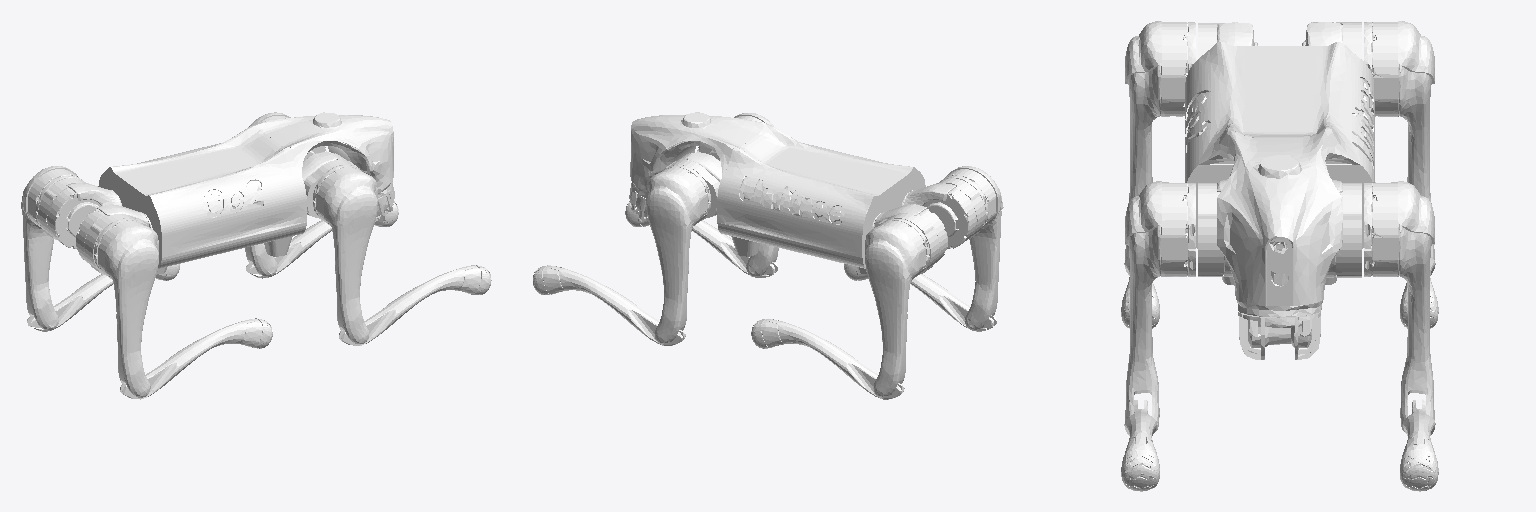
--- Facts derived from the render (not from the file) ---
The picture shows the robot from 3 angles, left to right: view 1: azimuth 30°, elevation 25°; view 2: azimuth 150°, elevation 25°; view 3: azimuth 270°, elevation 25°; orthographic projection.
Robot: go2_description — 29 links, 28 joints (12 revolute, 16 fixed); root link base; default pose: all joints at 0 but 4 set to mid-range because 0 is outside their limits (FL_calf_joint = -1.78, FR_calf_joint = -1.78, RL_calf_joint = -1.78, RR_calf_joint = -1.78).
Visible links, largest first — view 1: base, RR_thigh, FR_thigh, RL_thigh, RL_hip, FR_calf, RR_calf, RR_hip, RL_calf, FL_calf, FR_hip, FL_thigh; view 2: base, RL_thigh, FL_thigh, RR_thigh, RR_hip, RL_calf, FL_calf, RL_hip, RR_calf, FR_calf, FL_hip, FR_thigh; view 3: base, FL_thigh, FR_thigh, RL_thigh, RR_thigh, FL_hip, FR_hip, FL_calf, FR_calf, RL_hip, RR_hip, FR_foot (+1 smaller).
Boxes of the visible links, x1,y1,x2,y2 form: base: [98, 112, 394, 273]; RR_thigh: [94, 218, 158, 397]; FR_thigh: [313, 165, 377, 343]; RL_thigh: [21, 166, 82, 330]; RL_hip: [38, 178, 121, 248]; FR_calf: [339, 265, 490, 345]; RR_calf: [120, 319, 272, 399]; RR_hip: [76, 204, 152, 274]; RL_calf: [27, 266, 175, 331]; FL_calf: [246, 205, 398, 278]; FR_hip: [302, 151, 359, 218]; FL_thigh: [245, 112, 290, 277]; base: [629, 112, 925, 273]; RL_thigh: [865, 219, 929, 397]; FL_thigh: [646, 165, 710, 343]; RR_thigh: [940, 166, 1003, 330]; RR_hip: [902, 178, 985, 248]; RL_calf: [751, 319, 904, 399]; FL_calf: [533, 266, 685, 345]; RL_hip: [871, 204, 947, 274]; RR_calf: [844, 264, 996, 331]; FR_calf: [625, 201, 777, 277]; FL_hip: [664, 152, 721, 220]; FR_thigh: [734, 113, 778, 277]; base: [1185, 42, 1374, 359]; FL_thigh: [1364, 181, 1434, 431]; FR_thigh: [1125, 181, 1195, 431]; RL_thigh: [1364, 21, 1434, 259]; RR_thigh: [1125, 21, 1195, 259]; FL_hip: [1326, 179, 1361, 277]; FR_hip: [1198, 179, 1232, 276]; FL_calf: [1402, 399, 1438, 489]; FR_calf: [1121, 400, 1156, 488]; RL_hip: [1302, 22, 1361, 58]; RR_hip: [1198, 22, 1257, 58]; FR_foot: [1122, 450, 1159, 491].
Bounding box of the posed robot: 0.6664 × 0.324 × 0.3208 m (x, y, z).
17 mesh visuals loaded from 7 distinct referenced files (7 Collada DAE).

The robot description file, URDF, robot "go2_description":
<?xml version="1.0" encoding="utf-8"?>
<!-- This URDF was automatically created by SolidWorks to URDF Exporter! Originally created by
Stephen Brawner ([email redacted]) 
     Commit Version: 1.6.0-4-g7f85cfe  Build Version: 1.6.7995.38578
     For more information, please see http://wiki.ros.org/sw_urdf_exporter -->
<robot
  name="go2_description">
  <link
    name="base">
    <inertial>
      <origin
        xyz="0.021112 0 -0.005366"
        rpy="0 0 0" />
      <mass
        value="6.921" />
      <inertia
        ixx="0.02448"
        ixy="0.00012166"
        ixz="0.0014849"
        iyy="0.098077"
        iyz="-3.12E-05"
        izz="0.107" />
    </inertial>
    <visual>
      <origin
        xyz="0 0 0"
        rpy="0 0 0" />
      <geometry>
        <mesh
          filename="../dae/base.dae" />
      </geometry>
      <material
        name="">
        <color
          rgba="1 1 1 1" />
      </material>
    </visual>
    <collision>
      <origin rpy="0 0 0" xyz="0 0 0" />
      <geometry>
        <box size="0.3762 0.0935 0.114" />
      </geometry>
    </collision>
  </link>
  <link
    name="Head_upper">
    <inertial>
      <origin
        xyz="0 0 0"
        rpy="0 0 0" />
      <mass
        value="0.001" />
      <inertia
        ixx="9.6e-06"
        ixy="0"
        ixz="0"
        iyy="9.6e-06"
        iyz="0"
        izz="9.6e-06" />
    </inertial>
    <collision>
      <origin
        xyz="0 0 0"
        rpy="0 0 0" />
      <geometry>
        <cylinder radius="0.05" length="0.09" />
      </geometry>
    </collision>
  </link>
  <joint
    name="Head_upper_joint"
    type="fixed">
    <origin
      xyz="0.285 0 0.01"
      rpy="0 0 0" />
    <parent
      link="base" />
    <child
      link="Head_upper" />
    <axis
      xyz="0 0 0" />
  </joint>
  <link
    name="Head_lower">
    <inertial>
      <origin
        xyz="0 0 0"
        rpy="0 0 0" />
      <mass
        value="0.001" />
      <inertia
        ixx="9.6e-06"
        ixy="0"
        ixz="0"
        iyy="9.6e-06"
        iyz="0"
        izz="9.6e-06" />
    </inertial>
    <collision>
      <origin
        xyz="0 0 0"
        rpy="0 0 0" />
      <geometry>
        <sphere radius="0.047" />
      </geometry>
    </collision>
  </link>
  <joint
    name="Head_lower_joint"
    type="fixed" dont_collapse="true">
    <origin
      xyz="0.008 0 -0.07"
      rpy="0 0 0" />
    <parent
      link="Head_upper" />
    <child
      link="Head_lower" />
    <axis
      xyz="0 0 0" />
  </joint>
  <link
    name="FL_hip">
    <inertial>
      <origin
        xyz="-0.0054 0.00194 -0.000105"
        rpy="0 0 0" />
      <mass
        value="0.678" />
      <inertia
        ixx="0.00048"
        ixy="-3.01E-06"
        ixz="1.11E-06"
        iyy="0.000884"
        iyz="-1.42E-06"
        izz="0.000596" />
    </inertial>
    <visual>
      <origin
        xyz="0 0 0"
        rpy="0 0 0" />
      <geometry>
        <mesh
          filename="../dae/hip.dae" />
      </geometry>
      <material
        name="">
        <color
          rgba="1 1 1 1" />
      </material>
    </visual>
    <collision>
      <origin rpy="1.5707963267948966 0 0" xyz="0 0.08 0" />
      <geometry>
        <cylinder length="0.04" radius="0.046" />
      </geometry>
    </collision>
  </link>
  <joint
    name="FL_hip_joint"
    type="revolute">
    <origin
      xyz="0.1934 0.0465 0"
      rpy="0 0 0" />
    <parent
      link="base" />
    <child
      link="FL_hip" />
    <axis
      xyz="1 0 0" />
    <limit
      lower="-1.0472"
      upper="1.0472"
      effort="23.7"
      velocity="30.1" />
  </joint>
  <link
    name="FL_thigh">
    <inertial>
      <origin
        xyz="-0.00374 -0.0223 -0.0327"
        rpy="0 0 0" />
      <mass
        value="1.152" />
      <inertia
        ixx="0.00584"
        ixy="8.72E-05"
        ixz="-0.000289"
        iyy="0.0058"
        iyz="0.000808"
        izz="0.00103" />
    </inertial>
    <visual>
      <origin
        xyz="0 0 0"
        rpy="0 0 0" />
      <geometry>
        <mesh
          filename="../dae/thigh.dae" />
      </geometry>
      <material
        name="">
        <color
          rgba="1 1 1 1" />
      </material>
    </visual>
    <collision>
      <origin rpy="0 1.5707963267948966 0" xyz="0 0 -0.1065" />
      <geometry>
        <box size="0.11 0.0245 0.034" />
      </geometry>
    </collision>
  </link>
  <joint
    name="FL_thigh_joint"
    type="revolute">
    <origin
      xyz="0 0.0955 0"
      rpy="0 0 0" />
    <parent
      link="FL_hip" />
    <child
      link="FL_thigh" />
    <axis
      xyz="0 1 0" />
    <limit
      lower="-1.5708"
      upper="3.4907"
      effort="23.7"
      velocity="30.1" />
  </joint>
  <link
    name="FL_calf">
    <inertial>
      <origin
        xyz="0.00548 -0.000975 -0.115"
        rpy="0 0 0" />
      <mass
        value="0.154" />
      <inertia
        ixx="0.00108"
        ixy="3.4E-07"
        ixz="1.72E-05"
        iyy="0.0011"
        iyz="8.28E-06"
        izz="3.29E-05" />
    </inertial>
    <visual>
      <origin
        xyz="0 0 0"
        rpy="0 0 0" />
      <geometry>
        <mesh
          filename="../dae/calf.dae" />
      </geometry>
      <material
        name="">
        <color
          rgba="1 1 1 1" />
      </material>
    </visual>
    <collision>
      <origin rpy="0 -0.21 0" xyz="0.008 0 -0.06" />
      <geometry>
        <cylinder length="0.12" radius="0.012" />
      </geometry>
    </collision>
  </link>
  <joint
    name="FL_calf_joint"
    type="revolute">
    <origin
      xyz="0 0 -0.213"
      rpy="0 0 0" />
    <parent
      link="FL_thigh" />
    <child
      link="FL_calf" />
    <axis
      xyz="0 1 0" />
    <limit
      lower="-2.7227"
      upper="-0.83776"
      effort="45.43"
      velocity="15.7" />
  </joint>
  <link
    name="FL_calflower">
    <collision>
      <origin rpy="0 0 0" xyz="0 0 0" />
      <geometry>
        <cylinder length="0.065" radius="0.011" />
      </geometry>
    </collision>
  </link>
  <joint
    name="FL_calflower_joint"
    type="fixed">
    <origin
      xyz="0.020 0 -0.148"
      rpy="0 0.05 0" />
    <parent
      link="FL_calf" />
    <child
      link="FL_calflower" />
    <axis
      xyz="0 0 0" />
  </joint>
  <link
    name="FL_calflower1">
    <collision>
      <origin rpy="0 0 0" xyz="0 0 0" />
      <geometry>
        <cylinder length="0.03" radius="0.0155" />
      </geometry>
    </collision>
  </link>
  <joint
    name="FL_calflower1_joint"
    type="fixed">
    <origin
      xyz="-0.01 0 -0.04"
      rpy="0 0.48 0" />
    <parent
      link="FL_calflower" />
    <child
      link="FL_calflower1" />
    <axis
      xyz="0 0 0" />
  </joint>
  <link
    name="FL_foot">
    <inertial>
      <origin
        xyz="0 0 0"
        rpy="0 0 0" />
      <mass
        value="0.04" />
      <inertia
        ixx="9.6e-06"
        ixy="0"
        ixz="0"
        iyy="9.6e-06"
        iyz="0"
        izz="9.6e-06" />
    </inertial>
    <visual>
      <origin
        xyz="0 0 0"
        rpy="0 0 0" />
      <geometry>
        <mesh
          filename="../dae/foot.dae" />
      </geometry>
      <material
        name="">
        <color
          rgba="1 1 1 1" />
      </material>
    </visual>
    <collision>
      <origin rpy="0 0 0" xyz="-0.002 0 0" />
      <geometry>
        <sphere radius="0.022" />
      </geometry>
    </collision>
  </link>
  <joint
    name="FL_foot_joint"
    type="fixed" dont_collapse="true">
    <origin
      xyz="0 0 -0.213"
      rpy="0 0 0" />
    <parent
      link="FL_calf" />
    <child
      link="FL_foot" />
    <axis
      xyz="0 0 0" />
  </joint>
  <link
    name="FR_hip">
    <inertial>
      <origin
        xyz="-0.0054 -0.00194 -0.000105"
        rpy="0 0 0" />
      <mass
        value="0.678" />
      <inertia
        ixx="0.00048"
        ixy="3.01E-06"
        ixz="1.11E-06"
        iyy="0.000884"
        iyz="1.42E-06"
        izz="0.000596" />
    </inertial>
    <visual>
      <origin
        xyz="0 0 0"
        rpy="3.1415 0 0" />
      <geometry>
        <mesh
          filename="../dae/hip.dae" />
      </geometry>
      <material
        name="">
        <color
          rgba="1 1 1 1" />
      </material>
    </visual>
    <collision>
      <origin rpy="1.5707963267948966 0 0" xyz="0 -0.08 0" />
      <geometry>
        <cylinder length="0.04" radius="0.046" />
      </geometry>
    </collision>
  </link>
  <joint
    name="FR_hip_joint"
    type="revolute">
    <origin
      xyz="0.1934 -0.0465 0"
      rpy="0 0 0" />
    <parent
      link="base" />
    <child
      link="FR_hip" />
    <axis
      xyz="1 0 0" />
    <limit
      lower="-1.0472"
      upper="1.0472"
      effort="23.7"
      velocity="30.1" />
  </joint>
  <link
    name="FR_thigh">
    <inertial>
      <origin
        xyz="-0.00374 0.0223 -0.0327"
        rpy="0 0 0" />
      <mass
        value="1.152" />
      <inertia
        ixx="0.00584"
        ixy="-8.72E-05"
        ixz="-0.000289"
        iyy="0.0058"
        iyz="-0.000808"
        izz="0.00103" />
    </inertial>
    <visual>
      <origin
        xyz="0 0 0"
        rpy="0 0 0" />
      <geometry>
        <mesh
          filename="../dae/thigh_mirror.dae" />
      </geometry>
      <material
        name="">
        <color
          rgba="1 1 1 1" />
      </material>
    </visual>
    <collision>
      <origin rpy="0 1.5707963267948966 0" xyz="0 0 -0.1065" />
      <geometry>
        <box size="0.11 0.0245 0.034" />
      </geometry>
    </collision>
  </link>
  <joint
    name="FR_thigh_joint"
    type="revolute">
    <origin
      xyz="0 -0.0955 0"
      rpy="0 0 0" />
    <parent
      link="FR_hip" />
    <child
      link="FR_thigh" />
    <axis
      xyz="0 1 0" />
    <limit
      lower="-1.5708"
      upper="3.4907"
      effort="23.7"
      velocity="30.1" />
  </joint>
  <link
    name="FR_calf">
    <inertial>
      <origin
        xyz="0.00548 0.000975 -0.115"
        rpy="0 0 0" />
      <mass
        value="0.154" />
      <inertia
        ixx="0.00108"
        ixy="-3.4E-07"
        ixz="1.72E-05"
        iyy="0.0011"
        iyz="-8.28E-06"
        izz="3.29E-05" />
    </inertial>
    <visual>
      <origin
        xyz="0 0 0"
        rpy="0 0 0" />
      <geometry>
        <mesh
          filename="../dae/calf_mirror.dae" />
      </geometry>
      <material
        name="">
        <color
          rgba="1 1 1 1" />
      </material>
    </visual>
    <collision>
      <origin rpy="0 -0.2 0" xyz="0.01 0 -0.06" />
      <geometry>
        <cylinder length="0.12" radius="0.013" />
      </geometry>
    </collision>
  </link>
  <joint
    name="FR_calf_joint"
    type="revolute">
    <origin
      xyz="0 0 -0.213"
      rpy="0 0 0" />
    <parent
      link="FR_thigh" />
    <child
      link="FR_calf" />
    <axis
      xyz="0 1 0" />
    <limit
      lower="-2.7227"
      upper="-0.83776"
      effort="45.43"
      velocity="15.7" />
  </joint>
  <link
    name="FR_calflower">
    <collision>
      <origin rpy="0 0 0" xyz="0 0 0" />
      <geometry>
        <cylinder length="0.065" radius="0.011" />
      </geometry>
    </collision>
  </link>
  <joint
    name="FR_calflower_joint"
    type="fixed">
    <origin
      xyz="0.020 0 -0.148"
      rpy="0 0.05 0" />
    <parent
      link="FR_calf" />
    <child
      link="FR_calflower" />
    <axis
      xyz="0 0 0" />
  </joint>
  <link
    name="FR_calflower1">
    <collision>
      <origin rpy="0 0 0" xyz="0 0 0" />
      <geometry>
        <cylinder length="0.03" radius="0.0155" />
      </geometry>
    </collision>
  </link>
  <joint
    name="FR_calflower1_joint"
    type="fixed">
    <origin
      xyz="-0.01 0 -0.04"
      rpy="0 0.48 0" />
    <parent
      link="FR_calflower" />
    <child
      link="FR_calflower1" />
    <axis
      xyz="0 0 0" />
  </joint>
  <link
    name="FR_foot">
    <inertial>
      <origin
        xyz="0 0 0"
        rpy="0 0 0" />
      <mass
        value="0.04" />
      <inertia
        ixx="9.6e-06"
        ixy="0"
        ixz="0"
        iyy="9.6e-06"
        iyz="0"
        izz="9.6e-06" />
    </inertial>
    <visual>
      <origin
        xyz="0 0 0"
        rpy="0 0 0" />
      <geometry>
        <mesh
          filename="../dae/foot.dae" />
      </geometry>
      <material
        name="">
        <color
          rgba="1 1 1 1" />
      </material>
    </visual>
    <collision>
      <origin rpy="0 0 0" xyz="-0.002 0 0" />
      <geometry>
        <sphere radius="0.022" />
      </geometry>
    </collision>
  </link>
  <joint
    name="FR_foot_joint"
    type="fixed" dont_collapse="true">
    <origin
      xyz="0 0 -0.213"
      rpy="0 0 0" />
    <parent
      link="FR_calf" />
    <child
      link="FR_foot" />
    <axis
      xyz="0 0 0" />
  </joint>
  <link
    name="RL_hip">
    <inertial>
      <origin
        xyz="0.0054 0.00194 -0.000105"
        rpy="0 0 0" />
      <mass
        value="0.678" />
      <inertia
        ixx="0.00048"
        ixy="3.01E-06"
        ixz="-1.11E-06"
        iyy="0.000884"
        iyz="-1.42E-06"
        izz="0.000596" />
    </inertial>
    <visual>
      <origin
        xyz="0 0 0"
        rpy="0 3.1415 0" />
      <geometry>
        <mesh
          filename="../dae/hip.dae" />
      </geometry>
      <material
        name="">
        <color
          rgba="1 1 1 1" />
      </material>
    </visual>
    <collision>
      <origin rpy="1.5707963267948966 0 0" xyz="0 0.08 0" />
      <geometry>
        <cylinder length="0.04" radius="0.046" />
      </geometry>
    </collision>
  </link>
  <joint
    name="RL_hip_joint"
    type="revolute">
    <origin
      xyz="-0.1934 0.0465 0"
      rpy="0 0 0" />
    <parent
      link="base" />
    <child
      link="RL_hip" />
    <axis
      xyz="1 0 0" />
    <limit
      lower="-1.0472"
      upper="1.0472"
      effort="23.7"
      velocity="30.1" />
  </joint>
  <link
    name="RL_thigh">
    <inertial>
      <origin
        xyz="-0.00374 -0.0223 -0.0327"
        rpy="0 0 0" />
      <mass
        value="1.152" />
      <inertia
        ixx="0.00584"
        ixy="8.72E-05"
        ixz="-0.000289"
        iyy="0.0058"
        iyz="0.000808"
        izz="0.00103" />
    </inertial>
    <visual>
      <origin
        xyz="0 0 0"
        rpy="0 0 0" />
      <geometry>
        <mesh
          filename="../dae/thigh.dae" />
      </geometry>
      <material
        name="">
        <color
          rgba="1 1 1 1" />
      </material>
    </visual>
    <collision>
      <origin rpy="0 1.5707963267948966 0" xyz="0 0 -0.1065" />
      <geometry>
        <box size="0.11 0.0245 0.034" />
      </geometry>
    </collision>
  </link>
  <joint
    name="RL_thigh_joint"
    type="revolute">
    <origin
      xyz="0 0.0955 0"
      rpy="0 0 0" />
    <parent
      link="RL_hip" />
    <child
      link="RL_thigh" />
    <axis
      xyz="0 1 0" />
    <limit
      lower="-0.5236"
      upper="4.5379"
      effort="23.7"
      velocity="30.1" />
  </joint>
  <link
    name="RL_calf">
    <inertial>
      <origin
        xyz="0.00548 -0.000975 -0.115"
        rpy="0 0 0" />
      <mass
        value="0.154" />
      <inertia
        ixx="0.00108"
        ixy="3.4E-07"
        ixz="1.72E-05"
        iyy="0.0011"
        iyz="8.28E-06"
        izz="3.29E-05" />
    </inertial>
    <visual>
      <origin
        xyz="0 0 0"
        rpy="0 0 0" />
      <geometry>
        <mesh
          filename="../dae/calf.dae" />
      </geometry>
      <material
        name="">
        <color
          rgba="1 1 1 1" />
      </material>
    </visual>
    <collision>
      <origin rpy="0 -0.2 0" xyz="0.01 0 -0.06" />
      <geometry>
        <cylinder length="0.12" radius="0.013" />
      </geometry>
    </collision>
  </link>
  <joint
    name="RL_calf_joint"
    type="revolute">
    <origin
      xyz="0 0 -0.213"
      rpy="0 0 0" />
    <parent
      link="RL_thigh" />
    <child
      link="RL_calf" />
    <axis
      xyz="0 1 0" />
    <limit
      lower="-2.7227"
      upper="-0.83776"
      effort="45.43"
      velocity="15.7" />
  </joint>
  <link
    name="RL_calflower">
    <collision>
      <origin rpy="0 0 0" xyz="0 0 0" />
      <geometry>
        <cylinder length="0.065" radius="0.011" />
      </geometry>
    </collision>
  </link>
  <joint
    name="RL_calflower_joint"
    type="fixed">
    <origin
      xyz="0.020 0 -0.148"
      rpy="0 0.05 0" />
    <parent
      link="RL_calf" />
    <child
      link="RL_calflower" />
    <axis
      xyz="0 0 0" />
  </joint>
  <link
    name="RL_calflower1">
    <collision>
      <origin rpy="0 0 0" xyz="0 0 0" />
      <geometry>
        <cylinder length="0.03" radius="0.0155" />
      </geometry>
    </collision>
  </link>
  <joint
    name="RL_calflower1_joint"
    type="fixed">
    <origin
      xyz="-0.01 0 -0.04"
      rpy="0 0.48 0" />
    <parent
      link="RL_calflower" />
    <child
      link="RL_calflower1" />
    <axis
      xyz="0 0 0" />
  </joint>
  <link
    name="RL_foot">
    <inertial>
      <origin
        xyz="0 0 0"
        rpy="0 0 0" />
      <mass
        value="0.04" />
      <inertia
        ixx="9.6e-06"
        ixy="0"
        ixz="0"
        iyy="9.6e-06"
        iyz="0"
        izz="9.6e-06" />
    </inertial>
    <visual>
      <origin
        xyz="0 0 0"
        rpy="0 0 0" />
      <geometry>
        <mesh
          filename="../dae/foot.dae" />
      </geometry>
      <material
        name="">
        <color
          rgba="1 1 1 1" />
      </material>
    </visual>
    <collision>
      <origin rpy="0 0 0" xyz="-0.002 0 0" />
      <geometry>
        <sphere radius="0.022" />
      </geometry>
    </collision>
  </link>
  <joint
    name="RL_foot_joint"
    type="fixed" dont_collapse="true">
    <origin
      xyz="0 0 -0.213"
      rpy="0 0 0" />
    <parent
      link="RL_calf" />
    <child
      link="RL_foot" />
    <axis
      xyz="0 0 0" />
  </joint>
  <link
    name="RR_hip">
    <inertial>
      <origin
        xyz="0.0054 -0.00194 -0.000105"
        rpy="0 0 0" />
      <mass
        value="0.678" />
      <inertia
        ixx="0.00048"
        ixy="-3.01E-06"
        ixz="-1.11E-06"
        iyy="0.000884"
        iyz="1.42E-06"
        izz="0.000596" />
    </inertial>
    <visual>
      <origin
        xyz="0 0 0"
        rpy="3.1415 3.1415 0" />
      <geometry>
        <mesh
          filename="../dae/hip.dae" />
      </geometry>
      <material
        name="">
        <color
          rgba="1 1 1 1" />
      </material>
    </visual>
    <collision>
      <origin rpy="1.5707963267948966 0 0" xyz="0 -0.08 0" />
      <geometry>
        <cylinder length="0.04" radius="0.046" />
      </geometry>
    </collision>
  </link>
  <joint
    name="RR_hip_joint"
    type="revolute">
    <origin
      xyz="-0.1934 -0.0465 0"
      rpy="0 0 0" />
    <parent
      link="base" />
    <child
      link="RR_hip" />
    <axis
      xyz="1 0 0" />
    <limit
      lower="-1.0472"
      upper="1.0472"
      effort="23.7"
      velocity="30.1" />
  </joint>
  <link
    name="RR_thigh">
    <inertial>
      <origin
        xyz="-0.00374 0.0223 -0.0327"
        rpy="0 0 0" />
      <mass
        value="1.152" />
      <inertia
        ixx="0.00584"
        ixy="-8.72E-05"
        ixz="-0.000289"
        iyy="0.0058"
        iyz="-0.000808"
        izz="0.00103" />
    </inertial>
    <visual>
      <origin
        xyz="0 0 0"
        rpy="0 0 0" />
      <geometry>
        <mesh
          filename="../dae/thigh_mirror.dae" />
      </geometry>
      <material
        name="">
        <color
          rgba="1 1 1 1" />
      </material>
    </visual>
    <collision>
      <origin rpy="0 1.5707963267948966 0" xyz="0 0 -0.1065" />
      <geometry>
        <box size="0.11 0.0245 0.034" />
      </geometry>
    </collision>
  </link>
  <joint
    name="RR_thigh_joint"
    type="revolute">
    <origin
      xyz="0 -0.0955 0"
      rpy="0 0 0" />
    <parent
      link="RR_hip" />
    <child
      link="RR_thigh" />
    <axis
      xyz="0 1 0" />
    <limit
      lower="-0.5236"
      upper="4.5379"
      effort="23.7"
      velocity="30.1" />
  </joint>
  <link
    name="RR_calf">
    <inertial>
      <origin
        xyz="0.00548 0.000975 -0.115"
        rpy="0 0 0" />
      <mass
        value="0.154" />
      <inertia
        ixx="0.00108"
        ixy="-3.4E-07"
        ixz="1.72E-05"
        iyy="0.0011"
        iyz="-8.28E-06"
        izz="3.29E-05" />
    </inertial>
    <visual>
      <origin
        xyz="0 0 0"
        rpy="0 0 0" />
      <geometry>
        <mesh
          filename="../dae/calf_mirror.dae" />
      </geometry>
      <material
        name="">
        <color
          rgba="1 1 1 1" />
      </material>
    </visual>
    <collision>
      <origin rpy="0 -0.2 0" xyz="0.01 0 -0.06" />
      <geometry>
        <cylinder length="0.12" radius="0.013" />
      </geometry>
    </collision>
  </link>
  <joint
    name="RR_calf_joint"
    type="revolute">
    <origin
      xyz="0 0 -0.213"
      rpy="0 0 0" />
    <parent
      link="RR_thigh" />
    <child
      link="RR_calf" />
    <axis
      xyz="0 1 0" />
    <limit
      lower="-2.7227"
      upper="-0.83776"
      effort="45.43"
      velocity="15.7" />
  </joint>
  <link
    name="RR_calflower">
    <collision>
      <origin rpy="0 0 0" xyz="0 0 0" />
      <geometry>
        <cylinder length="0.065" radius="0.011" />
      </geometry>
    </collision>
  </link>
  <joint
    name="RR_calflower_joint"
    type="fixed">
    <origin
      xyz="0.020 0 -0.148"
      rpy="0 0.05 0" />
    <parent
      link="RR_calf" />
    <child
      link="RR_calflower" />
    <axis
      xyz="0 0 0" />
  </joint>
  <link
    name="RR_calflower1">
    <collision>
      <origin rpy="0 0 0" xyz="0 0 0" />
      <geometry>
        <cylinder length="0.03" radius="0.0155" />
      </geometry>
    </collision>
  </link>
  <joint
    name="RR_calflower1_joint"
    type="fixed">
    <origin
      xyz="-0.01 0 -0.04"
      rpy="0 0.48 0" />
    <parent
      link="RR_calflower" />
    <child
      link="RR_calflower1" />
    <axis
      xyz="0 0 0" />
  </joint>
  <link
    name="RR_foot">
    <inertial>
      <origin
        xyz="0 0 0"
        rpy="0 0 0" />
      <mass
        value="0.04" />
      <inertia
        ixx="9.6e-06"
        ixy="0"
        ixz="0"
        iyy="9.6e-06"
        iyz="0"
        izz="9.6e-06" />
    </inertial>
    <visual>
      <origin
        xyz="0 0 0"
        rpy="0 0 0" />
      <geometry>
        <mesh
          filename="../dae/foot.dae" />
      </geometry>
      <material
        name="">
        <color
          rgba="1 1 1 1" />
      </material>
    </visual>
    <collision>
      <origin rpy="0 0 0" xyz="-0.002 0 0" />
      <geometry>
        <sphere radius="0.022" />
      </geometry>
    </collision>
  </link>
  <joint
    name="RR_foot_joint"
    type="fixed" dont_collapse="true">
    <origin
      xyz="0 0 -0.213"
      rpy="0 0 0" />
    <parent
      link="RR_calf" />
    <child
      link="RR_foot" />
    <axis
      xyz="0 0 0" />
  </joint>
  <link
    name="imu">
    <inertial>
      <origin
        xyz="0 0 0"
        rpy="0 0 0" />
      <mass
        value="0" />
      <inertia
        ixx="0"
        ixy="0"
        ixz="0"
        iyy="0"
        iyz="0"
        izz="0" />
    </inertial>
  </link>
  <joint
    name="imu_joint"
    type="fixed">
    <origin
      xyz="-0.02557 0 0.04232"
      rpy="0 0 0" />
    <parent
      link="base" />
    <child
      link="imu" />
    <axis
      xyz="0 0 0" />
  </joint>
  <link
    name="radar">
    <inertial>
      <origin
        xyz="0 0 0"
        rpy="0 0 0" />
      <mass
        value="0" />
      <inertia
        ixx="0"
        ixy="0"
        ixz="0"
        iyy="0"
        iyz="0"
        izz="0" />
    </inertial>
  </link>
  <joint
    name="radar_joint"
    type="fixed">
    <origin
      xyz="0.28945 0 -0.046825"
      rpy="0 2.8782 0" />
    <parent
      link="base" />
    <child
      link="radar" />
    <axis
      xyz="0 0 0" />
  </joint>
</robot>
